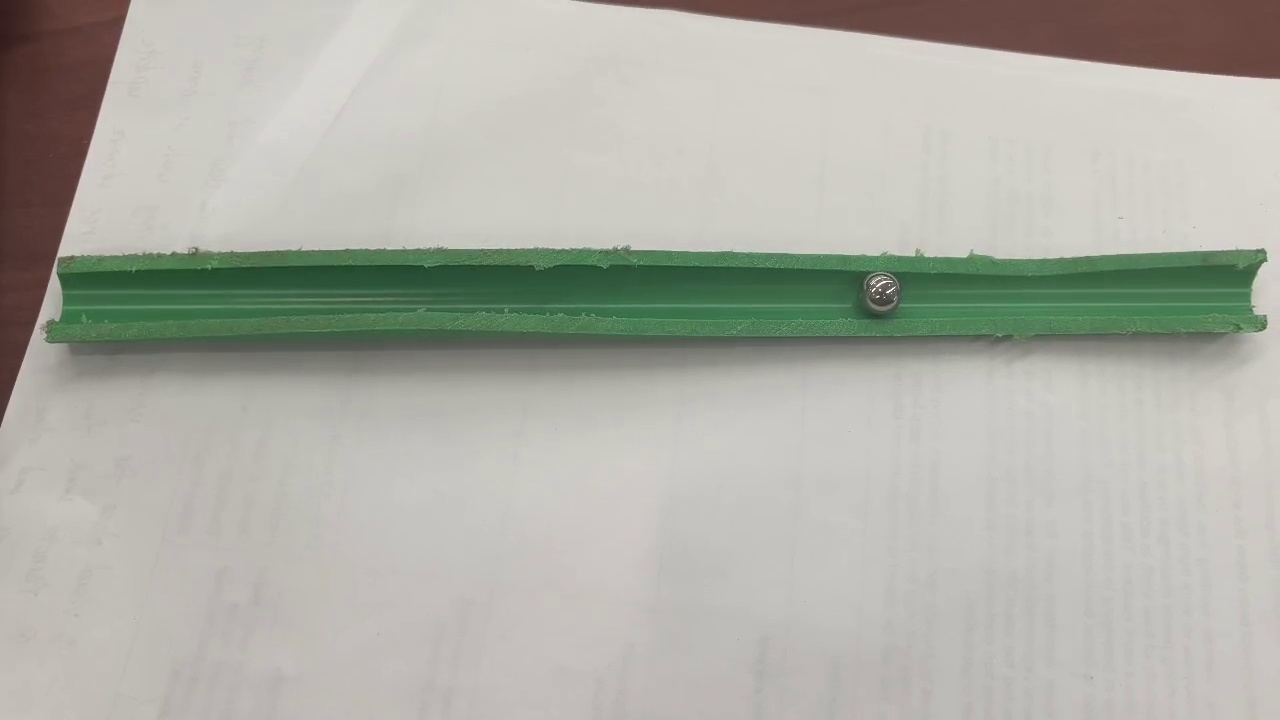ball: (864, 274, 900, 312)
